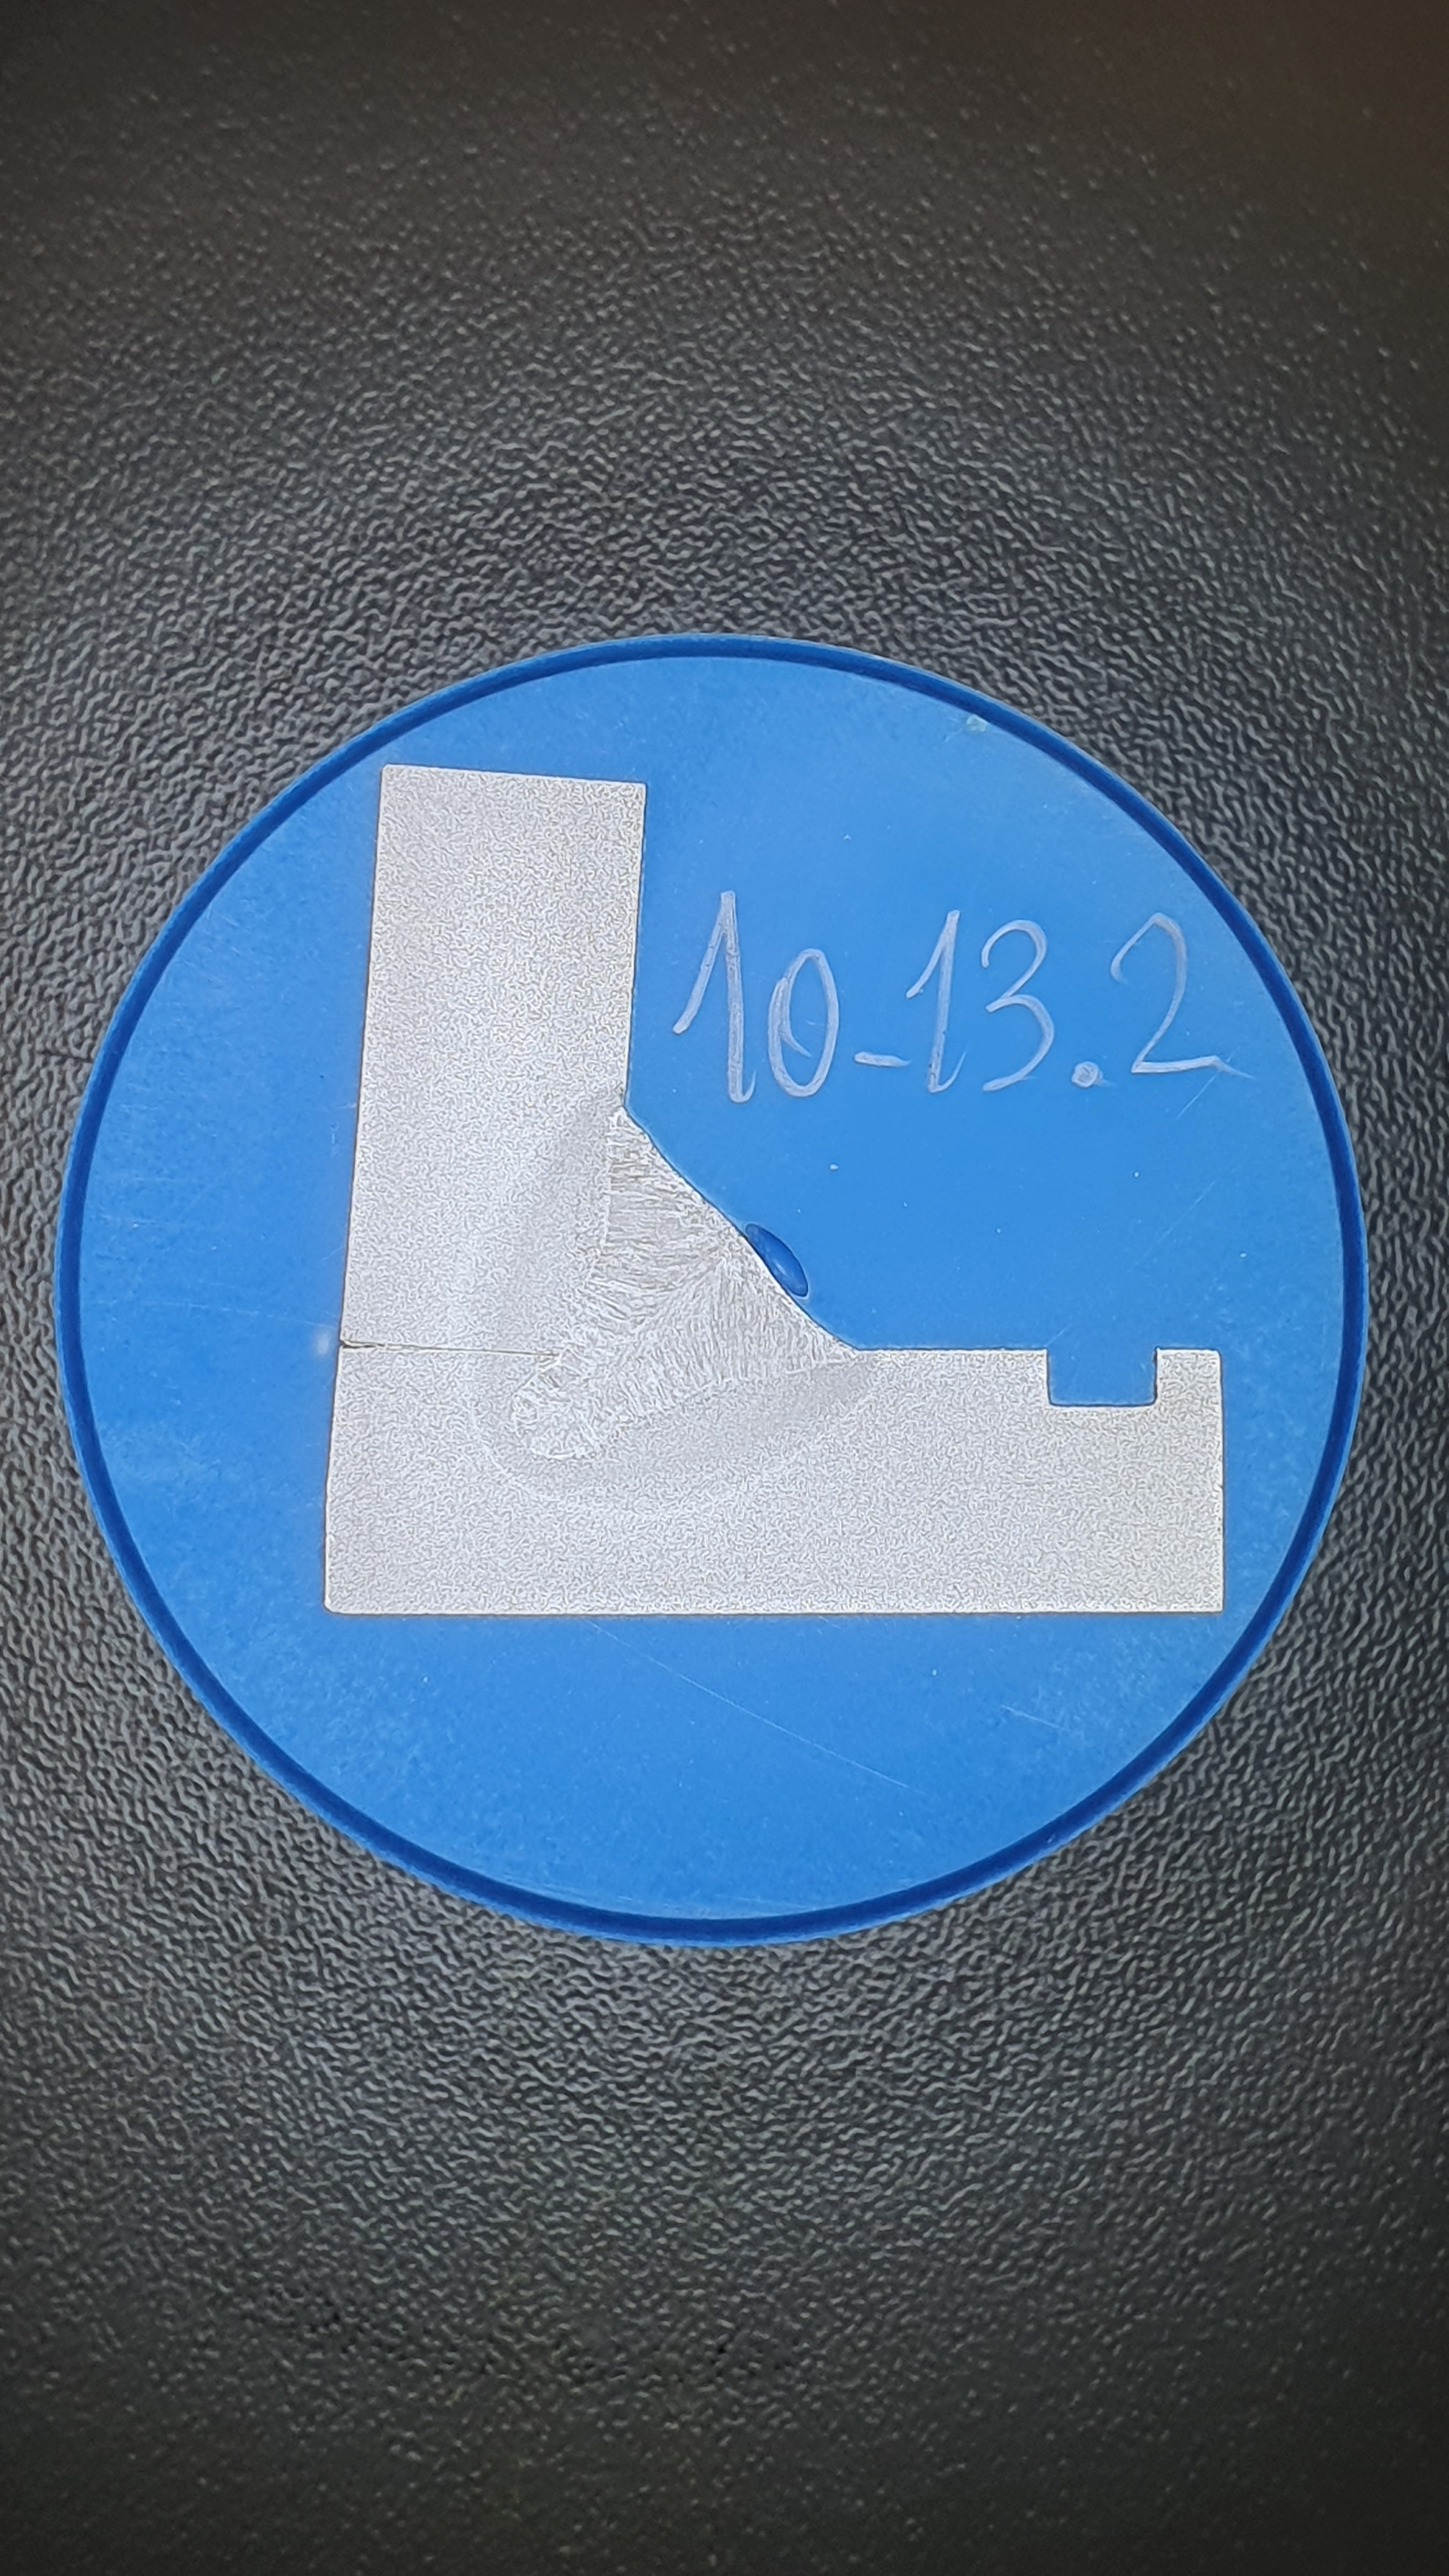Fusion: (511, 1106, 858, 1460)
Hintergrund: (80, 656, 1341, 1920)
Metall: (324, 763, 1224, 1615)
Nebenbereich: (469, 1081, 885, 1507)
